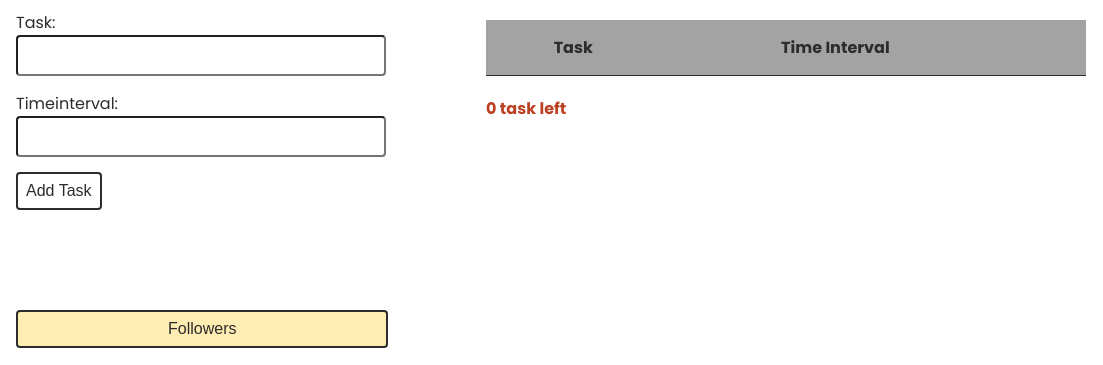
Scenario: render a single item after clicking the add task button
Type "Hit the Gym" into the field labelled "Task:" at (201, 56), box [16, 35, 386, 76]
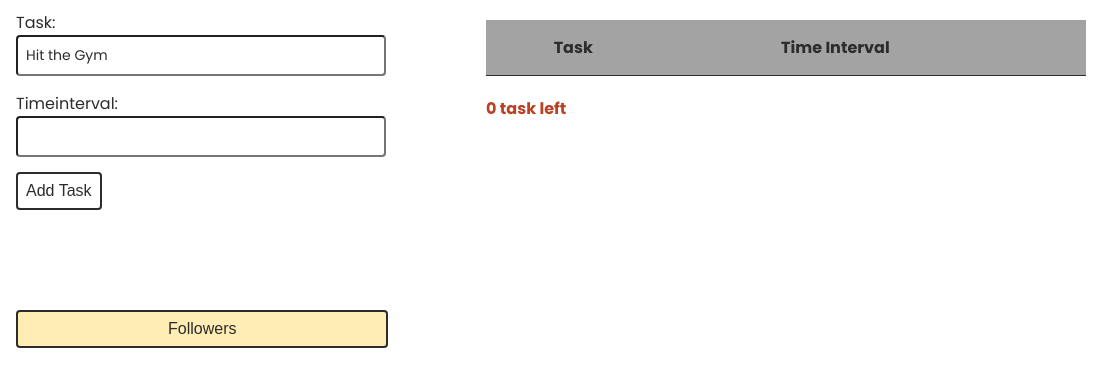
Type "1-2" into the field labelled "Timeinterval:" at (201, 136), box [16, 116, 386, 157]
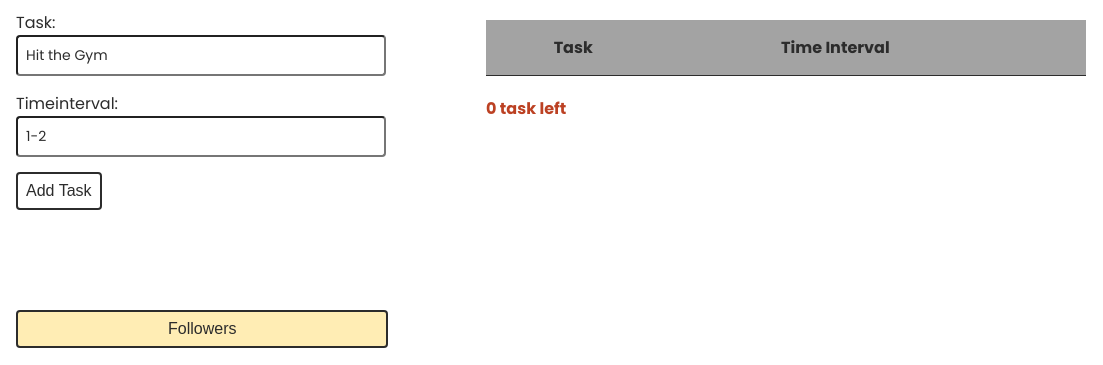
Click the button "Add Task" at (59, 191), box [16, 172, 102, 210]
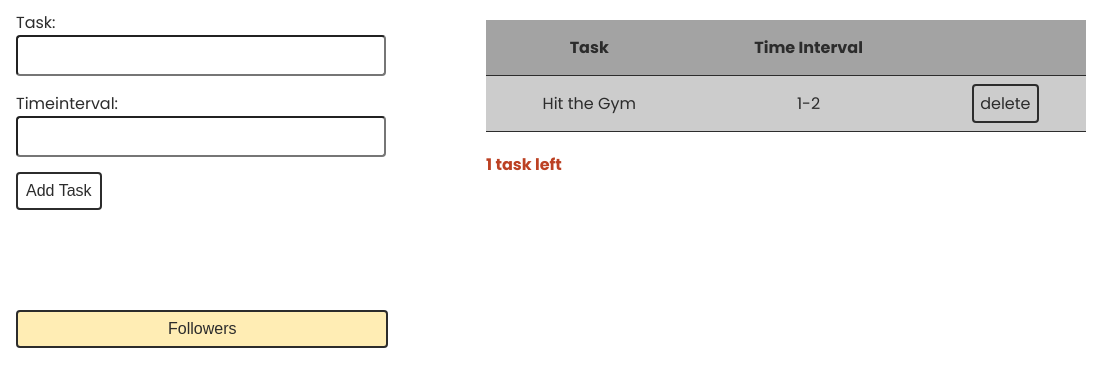
Expected: the text "Hit the Gym" is shown, [486, 76, 692, 132]
Expected: the text "1-2" is shown, [692, 76, 925, 132]
